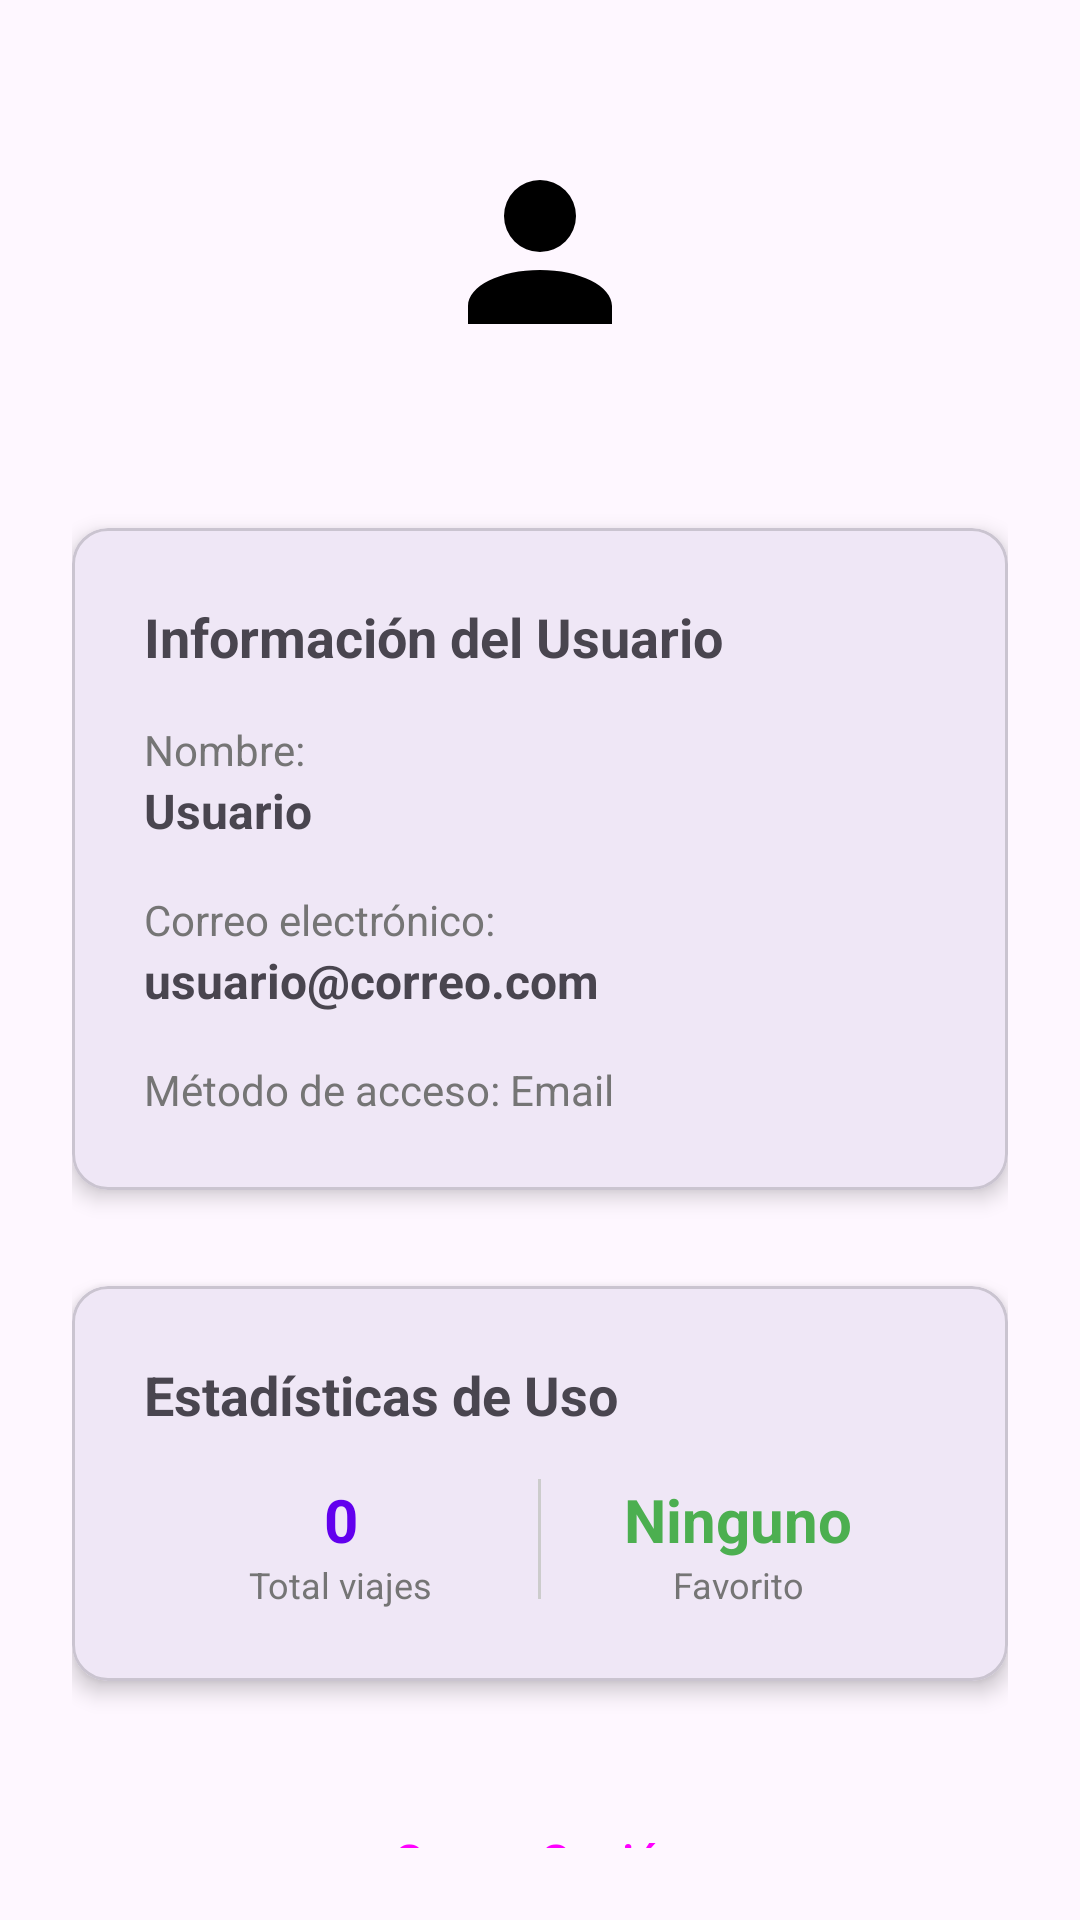

Icon bounding boxes for this 1080 × 1920 phone screenshot, format (x1, y1, x2, y2):
person: (468, 180, 612, 324)
